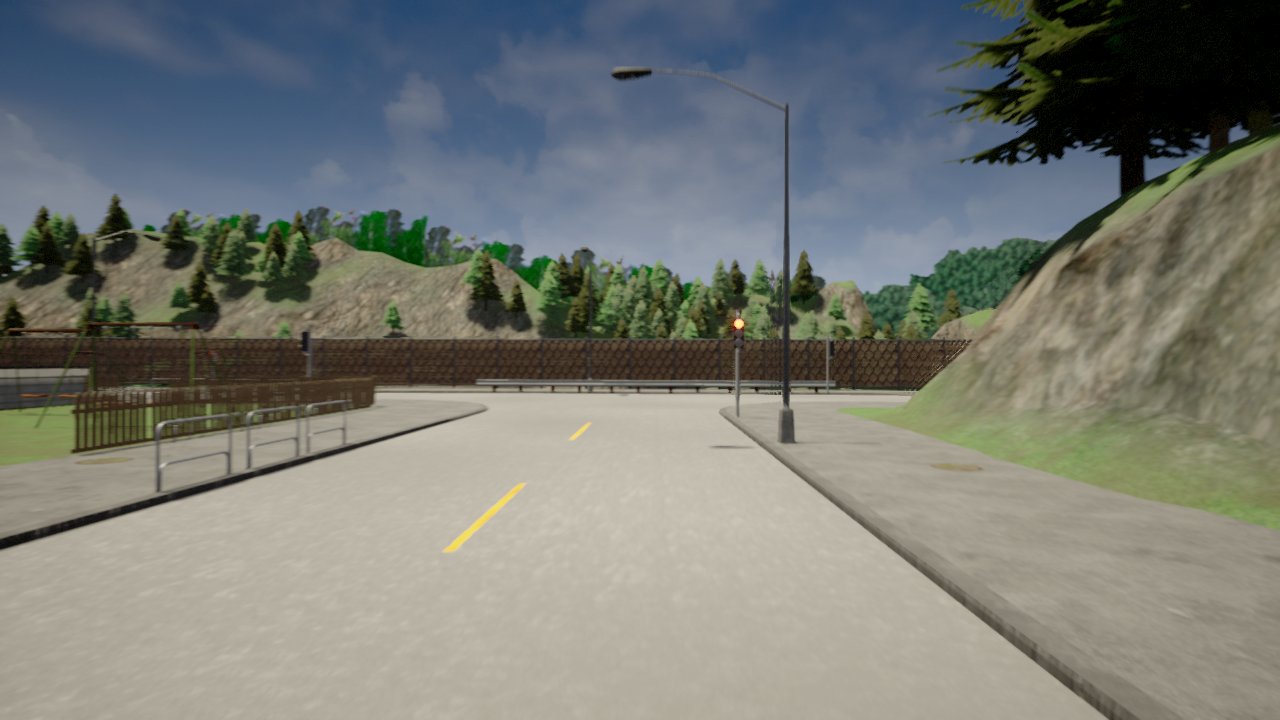red: (732, 317, 745, 348)
